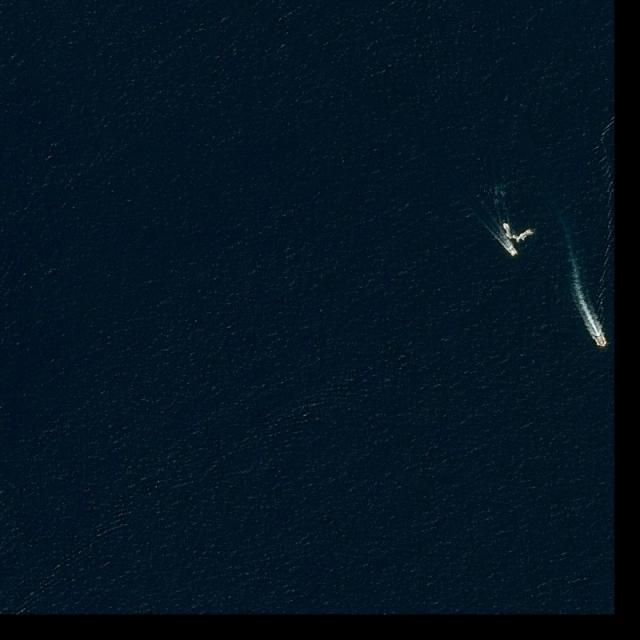ship: (596, 334, 607, 349), (500, 221, 509, 230), (510, 249, 517, 257)
